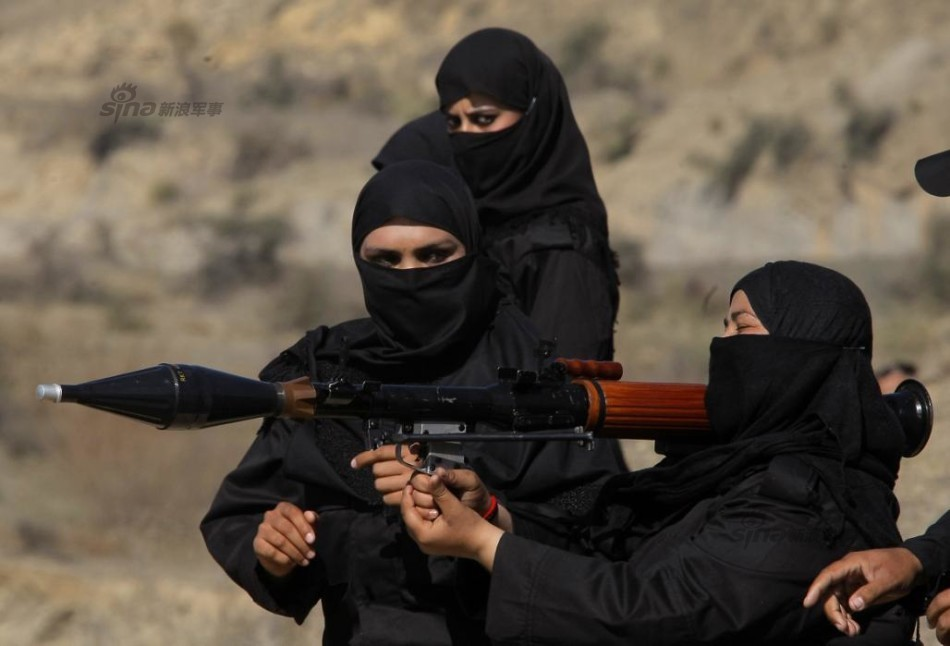face_mask: (364, 221, 463, 334), (448, 88, 522, 180), (718, 292, 767, 405)
